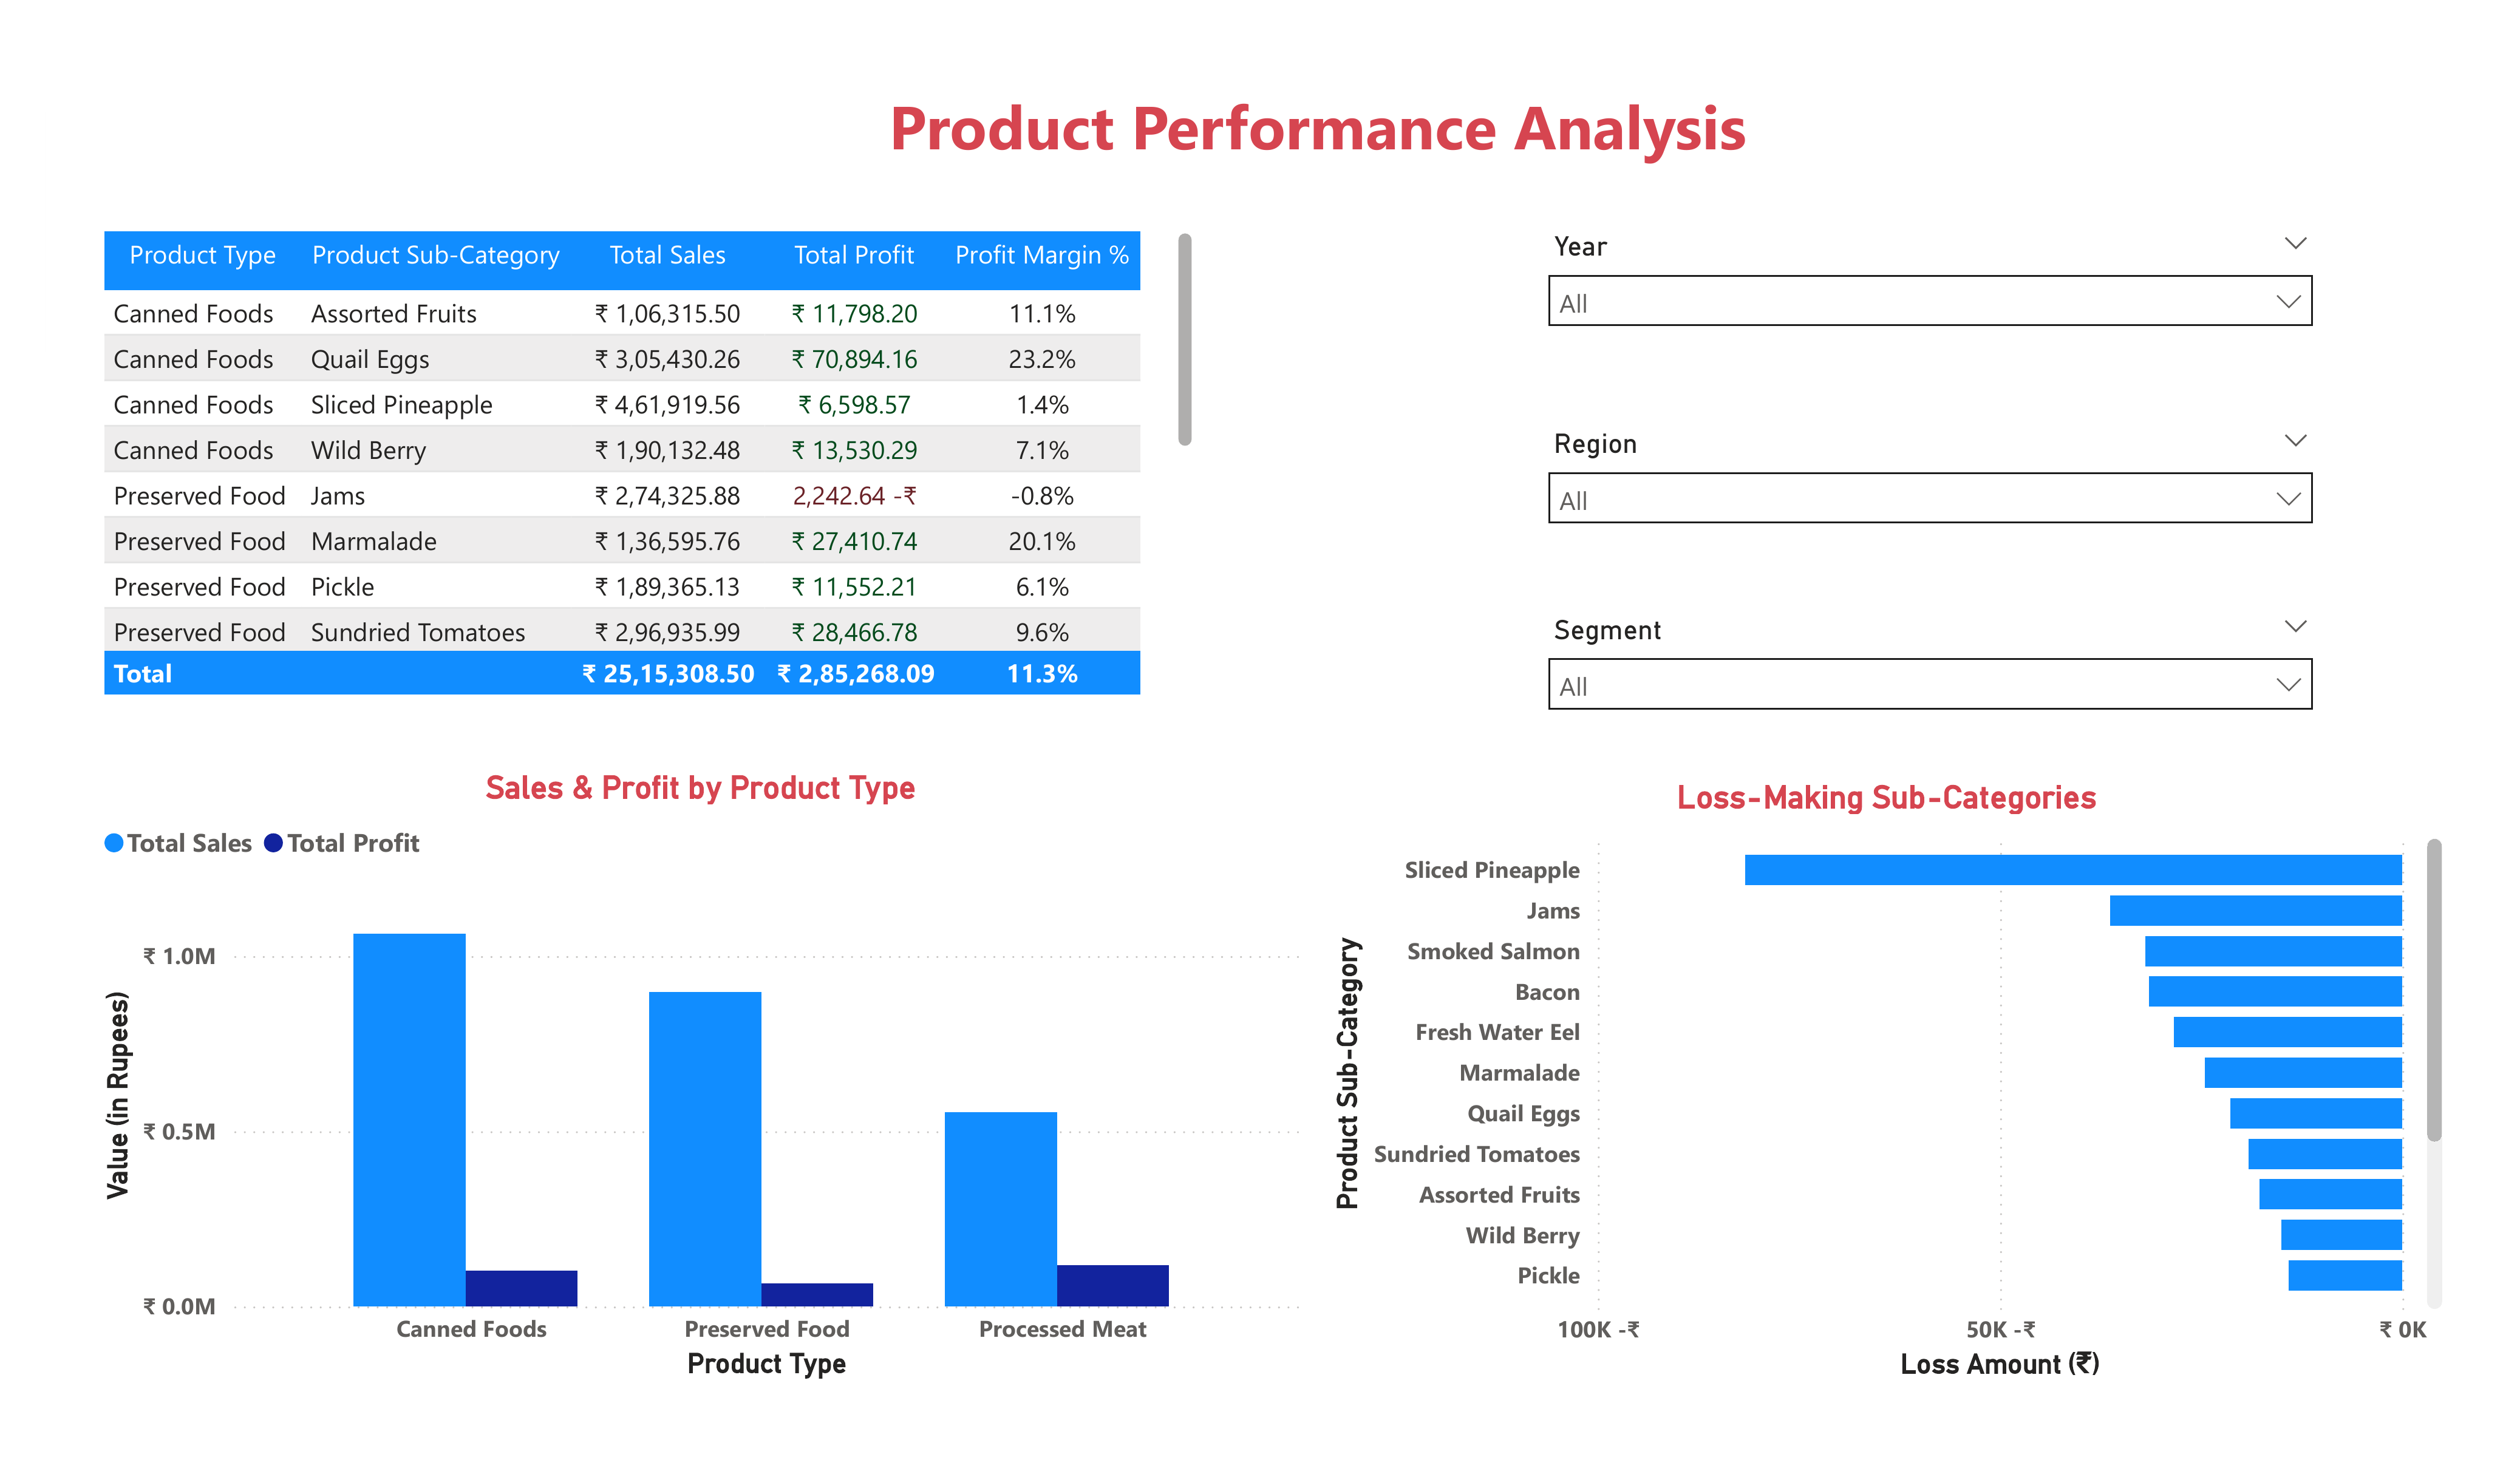

This screenshot's page, from the dashboard's own definition file:
{"tool":"powerbi","page":{"name":"Products","canvas":[1280,720],"ordinal":1},"visuals":[{"type":"clusteredColumnChart","title":"Sales & Profit by Product Type","fields":{"Category":["Dim_Product.Product Type"],"Y":["Measure.Total Sales","Measure.Total Profit"]},"box":[25,380.6,640.7,327.7],"z":0},{"type":"clusteredBarChart","title":"Loss-Making Sub-Categories","fields":{"Category":["Dim_Product.Product Sub-Category"],"Y":["Measure.Total Profit"]},"box":[673,386.4,595.1,321.8],"z":1000},{"type":"tableEx","fields":{"Values":["Dim_Product.Product Type","Dim_Product.Product Sub-Category","Measure.Total Sales","Measure.Total Profit","Measure.Profit Margin %"]},"box":[25,92.6,584.8,254.2],"z":2000},{"type":"slicer","fields":{"Values":["Dim_Date.Year"]},"box":[781.7,92.6,423.2,76.4],"z":3000},{"type":"slicer","fields":{"Values":["Dim_Geography.Region"]},"box":[781.7,196.9,423.2,74.9],"z":4000},{"type":"slicer","fields":{"Values":["Dim_Customer.Segment"]},"box":[781.7,295.3,423.2,76.4],"z":5000},{"type":"textbox","box":[42.7,15.4,1189.4,58.1],"z":6000}]}

Visuals, with their boxes on the page's 1280x720 design canvas (x1, y1, x2, y2). These are canvas units, not pixel positions in the 2520x1457 screenshot, which may show the page scaled, cropped or inside an application window:
"Sales & Profit by Product Type" clusteredColumnChart: BBox(25, 381, 666, 708)
"Loss-Making Sub-Categories" clusteredBarChart: BBox(673, 386, 1268, 708)
tableEx - Dim_Product.Product Type x Dim_Product.Product Sub-Category: BBox(25, 93, 610, 347)
slicer - Dim_Date.Year: BBox(782, 93, 1205, 169)
slicer - Dim_Geography.Region: BBox(782, 197, 1205, 272)
slicer - Dim_Customer.Segment: BBox(782, 295, 1205, 372)
textbox: BBox(43, 15, 1232, 74)
